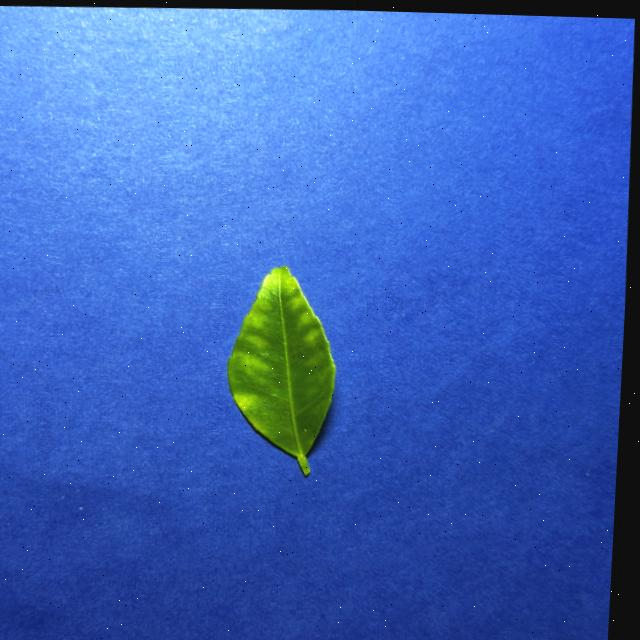greening: (228, 266, 335, 475)
